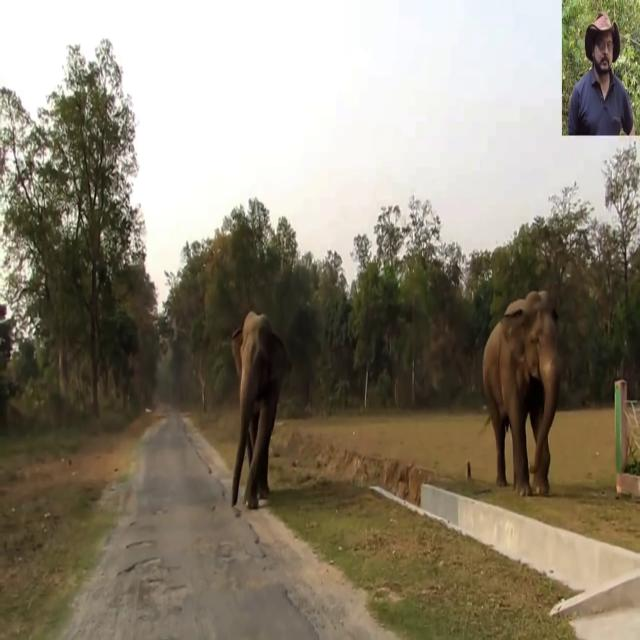Elephant: (482, 289, 561, 497), (230, 310, 292, 510)
